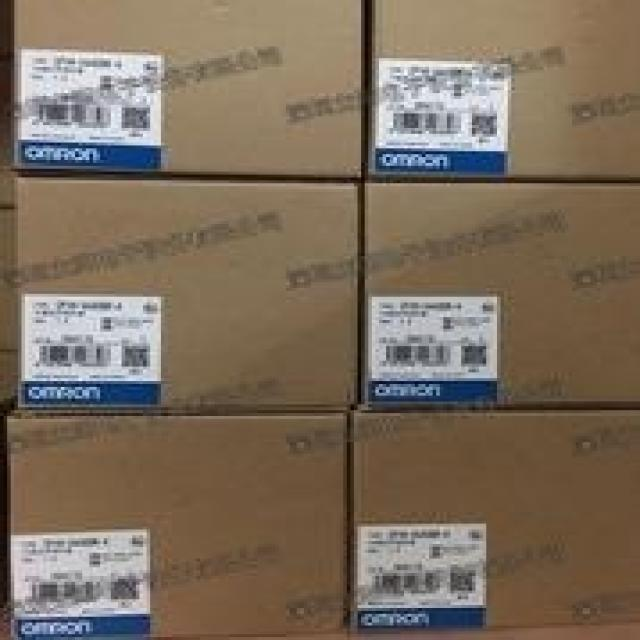box: (17, 177, 361, 414), (10, 413, 351, 635), (347, 407, 636, 631), (358, 182, 636, 411), (12, 1, 363, 178), (366, 0, 636, 180)
